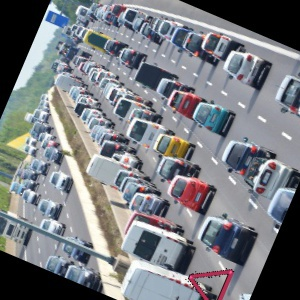triangle: (185, 266, 238, 300)
